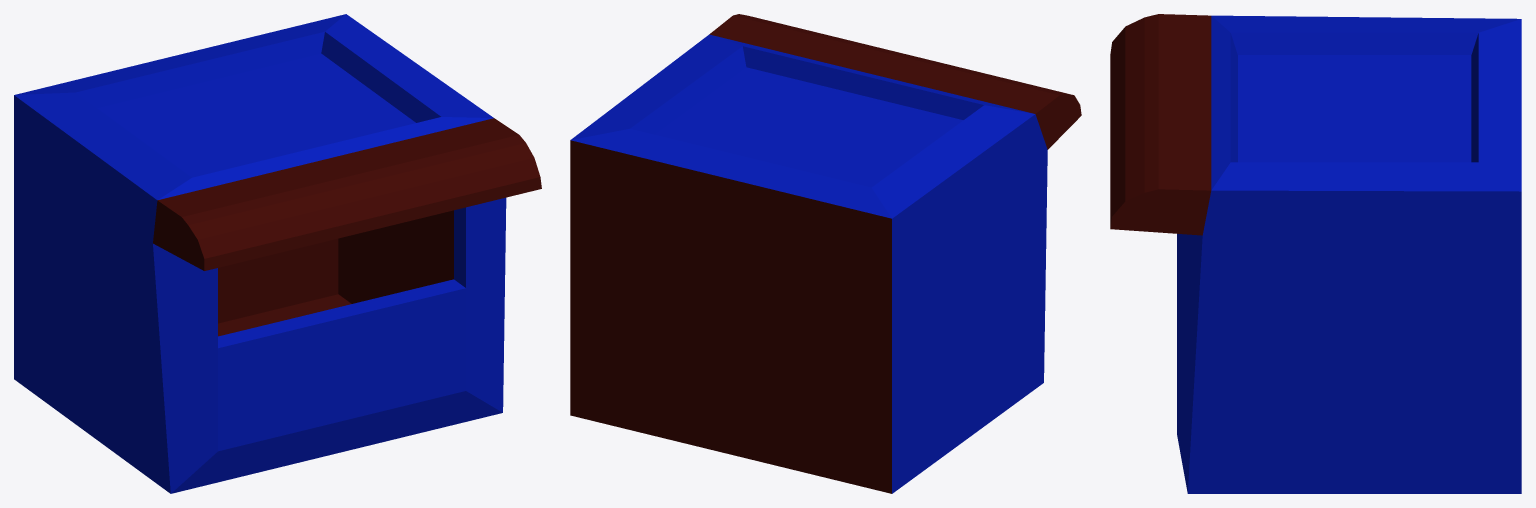
The model's file is foodStall3.fbx.
3 views of the same model, side by side, from view 1: azimuth 30°, elevation 25°; view 2: azimuth 150°, elevation 25°; view 3: azimuth 270°, elevation 25° (orthographic). The views are drawn at different scales.
Parts seen in each view (by area): view 1: foodStall3; view 2: foodStall3; view 3: foodStall3.
Part boxes in pixels (x1,y1,x2,y2): foodStall3: (14,14,541,493); foodStall3: (570,14,1081,493); foodStall3: (1110,14,1521,493).
Size of the model in its own units: 286 by 225 by 271.
